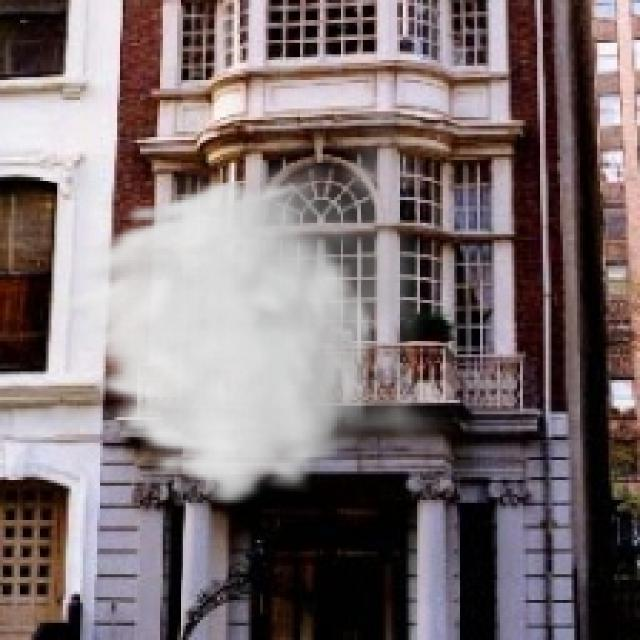smoke: (51, 109, 452, 508)
